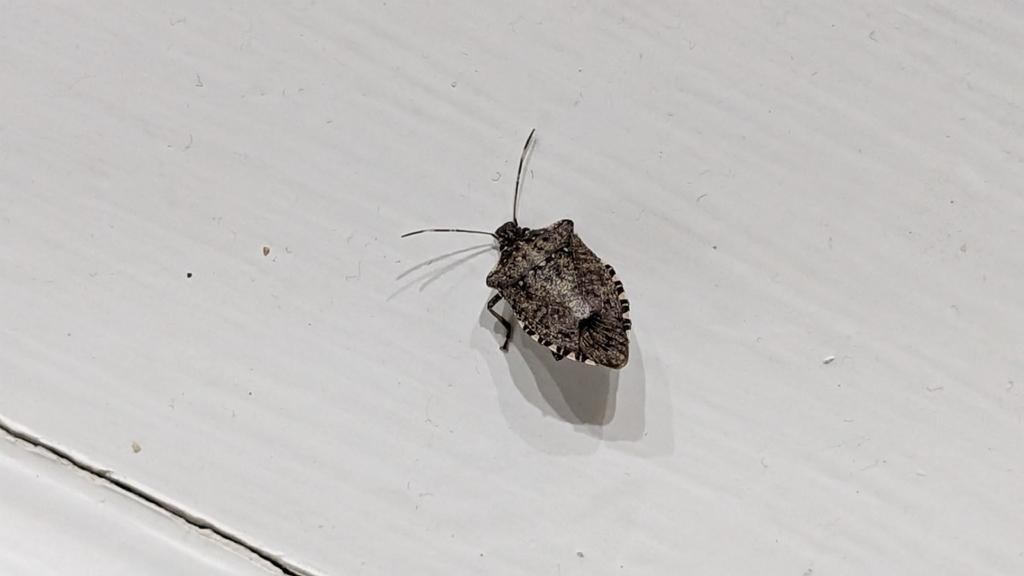stink_bugs: (377, 93, 704, 437)
